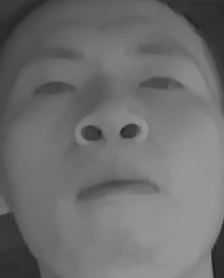eye: (135, 64, 190, 101), (29, 72, 80, 102)
mouth: (72, 162, 160, 206)
